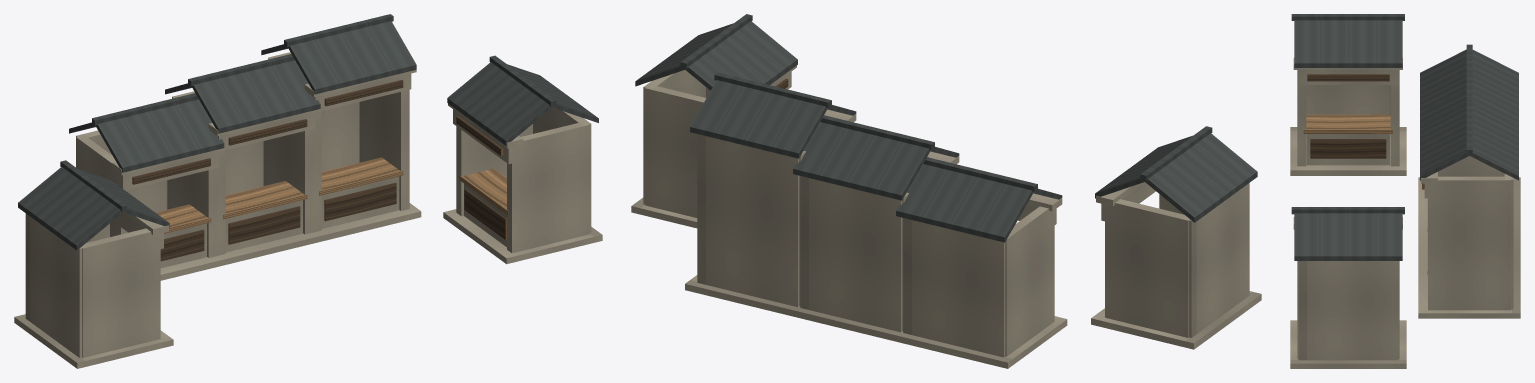
3 views of the same model, side by side, from view 1: azimuth 30°, elevation 25°; view 2: azimuth 150°, elevation 25°; view 3: azimuth 270°, elevation 25° (orthographic). The views are drawn at different scales.
Visible parts, largest first — view 1: managua; view 2: managua; view 3: managua.
Boxes of the visible parts, box(x1,y1,x2,y2) form: managua: box(14, 14, 602, 368); managua: box(631, 14, 1261, 368); managua: box(1290, 14, 1520, 368).
Bounding box in the file's own units: 7.4 × 2.45 × 3.05.
1 material, 1 textured.
